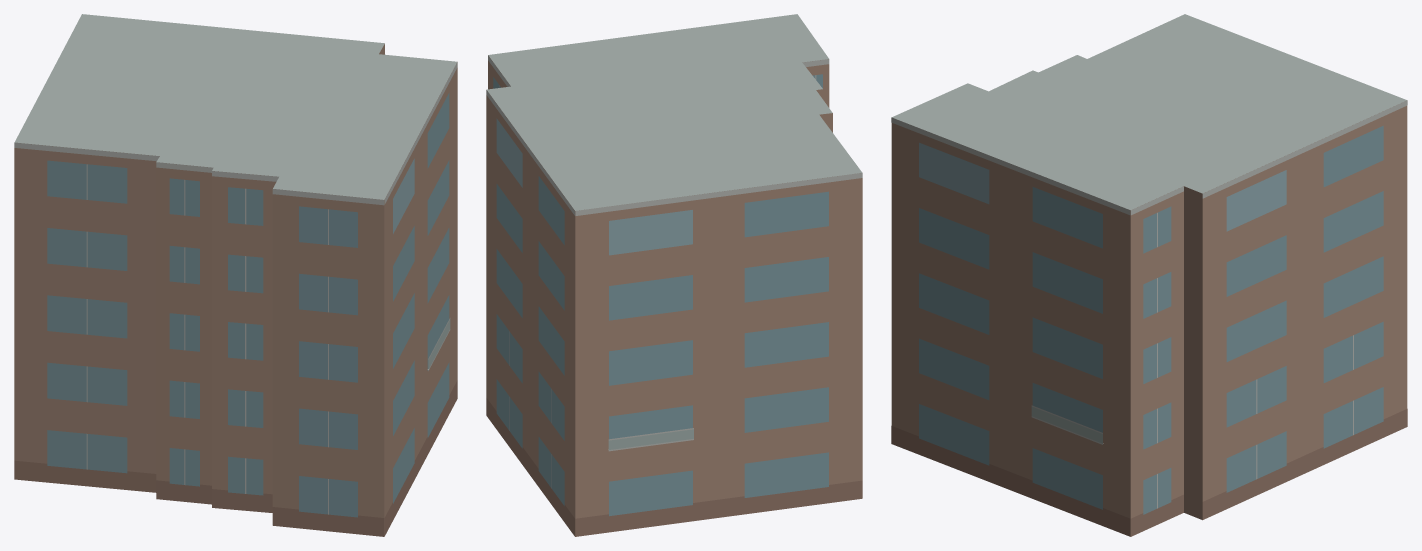
The model's file is survey-upis-32968717.glb.
3 renders of one model, left to right at view 1: azimuth 30°, elevation 25°; view 2: azimuth 150°, elevation 25°; view 3: azimuth 270°, elevation 25°, orthographic. The views are drawn at different scales.
Visible parts, largest first — view 1: survey-upis-32968717.tmp; view 2: survey-upis-32968717.tmp; view 3: survey-upis-32968717.tmp.
Boxes of the visible parts, box(x1,y1,x2,y2) form: survey-upis-32968717.tmp: box(14, 14, 457, 536); survey-upis-32968717.tmp: box(486, 14, 862, 536); survey-upis-32968717.tmp: box(891, 14, 1407, 536).
Size of the model in its own units: 19.67 by 15.25 by 21.84.
